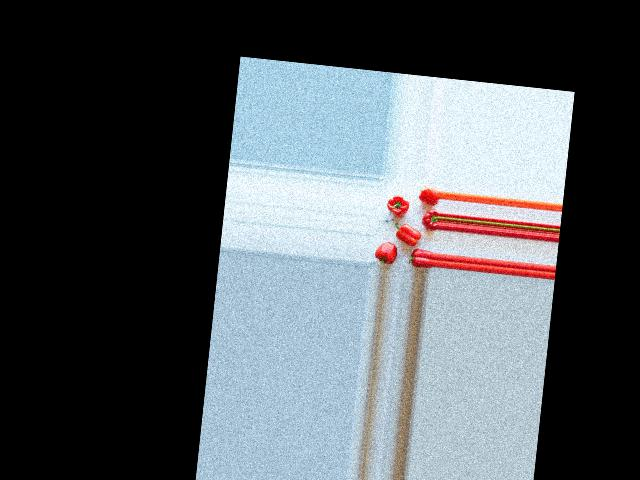bell_pepper: (420, 208, 438, 231)
